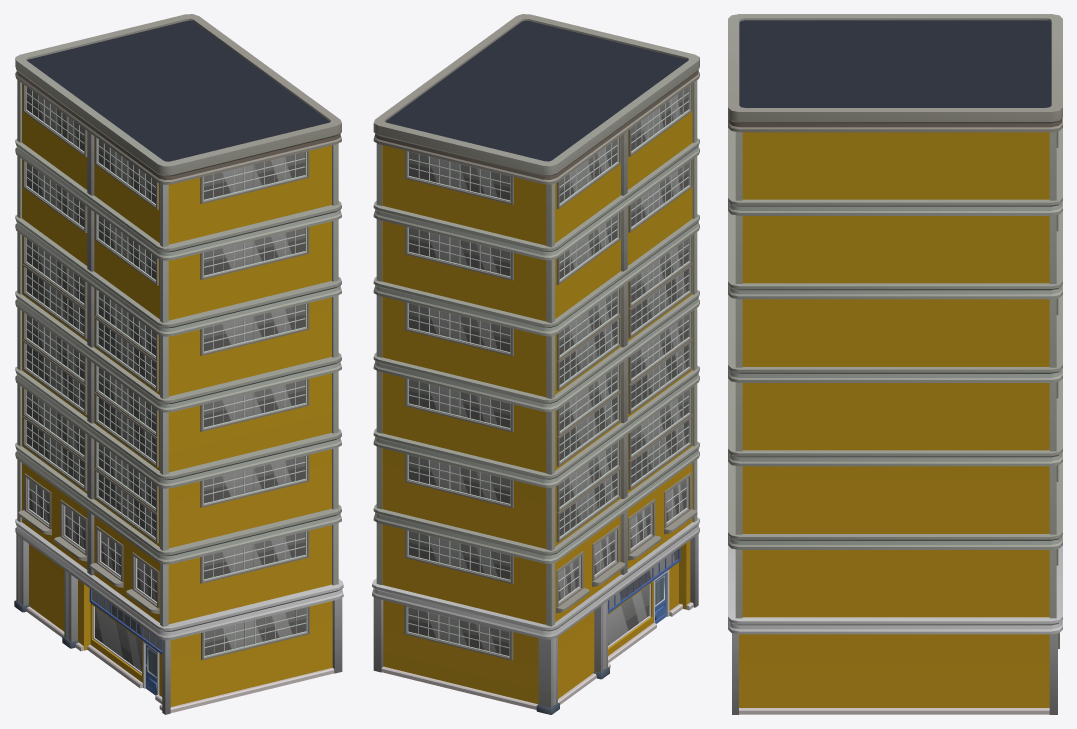
File: Building_11_5_G.fbx
3 renders of one model, left to right at view 1: azimuth 30°, elevation 25°; view 2: azimuth 150°, elevation 25°; view 3: azimuth 270°, elevation 25°, orthographic. The views are drawn at different scales.
Parts seen in each view (by area): view 1: Building_11_5_G; view 2: Building_11_5_G; view 3: Building_11_5_G.
Part boxes in pixels (box(x1,y1,x2,y2)): Building_11_5_G: box(14, 14, 343, 714); Building_11_5_G: box(372, 14, 699, 714); Building_11_5_G: box(728, 14, 1062, 714).
Bounding box in the file's own units: 827 × 2314 × 1163.
